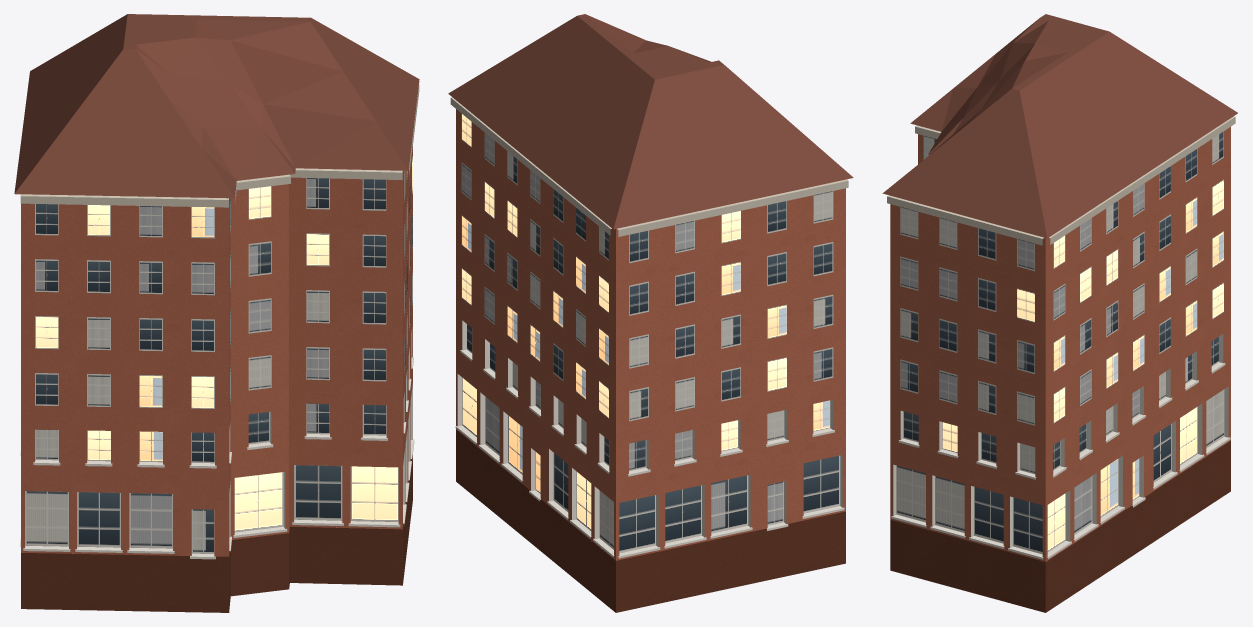
Rendered from z3c_hp_brickw.glb.
3 views of the same model, side by side, from view 1: azimuth 30°, elevation 25°; view 2: azimuth 150°, elevation 25°; view 3: azimuth 270°, elevation 25° (orthographic). The views are drawn at different scales.
Visible parts, largest first — view 1: z3c_hp_brickw; view 2: z3c_hp_brickw; view 3: z3c_hp_brickw.
Part boxes in pixels (x1,y1,x2,y2): z3c_hp_brickw: [14, 14, 419, 612]; z3c_hp_brickw: [448, 14, 853, 612]; z3c_hp_brickw: [882, 14, 1237, 612].
Size of the model in its own units: 23.55 by 27.78 by 19.04.
Materials: 3 (3 with a texture image).
